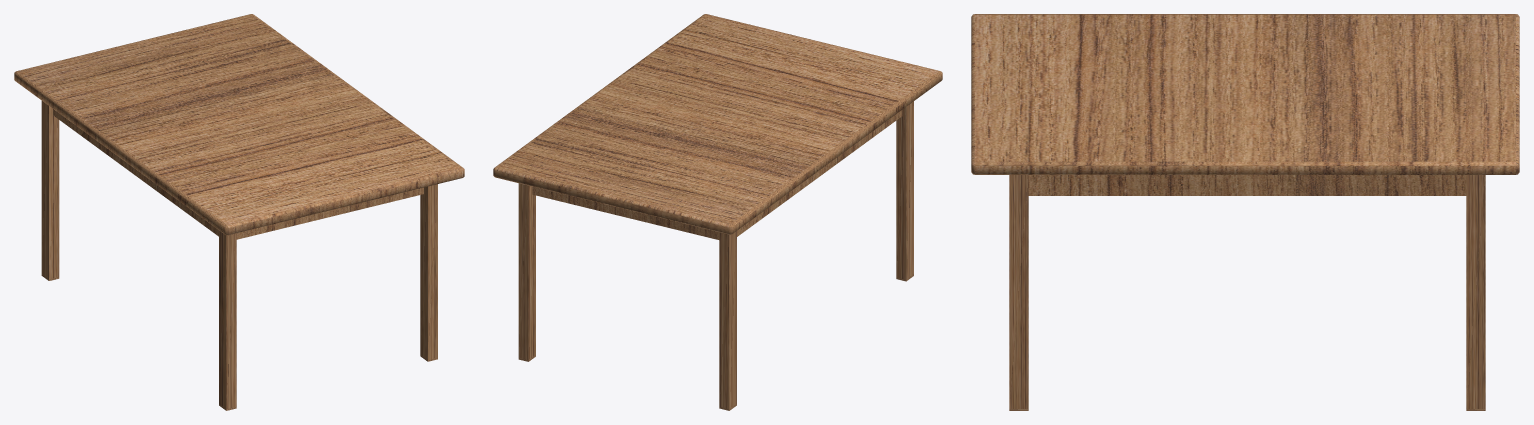
Rendered from table.fbx.
The picture shows the model from 3 angles, left to right: view 1: azimuth 30°, elevation 25°; view 2: azimuth 150°, elevation 25°; view 3: azimuth 270°, elevation 25°; orthographic projection. The views are drawn at different scales.
Visible parts, largest first — view 1: docktor_table; view 2: docktor_table; view 3: docktor_table.
Boxes of the visible parts, <box> form: docktor_table: <box>14,14,464,410</box>; docktor_table: <box>493,14,942,410</box>; docktor_table: <box>971,14,1519,410</box>.
Bounding box in the file's own units: 130 × 102 × 199.
Materials: 1 (1 with a texture image).
